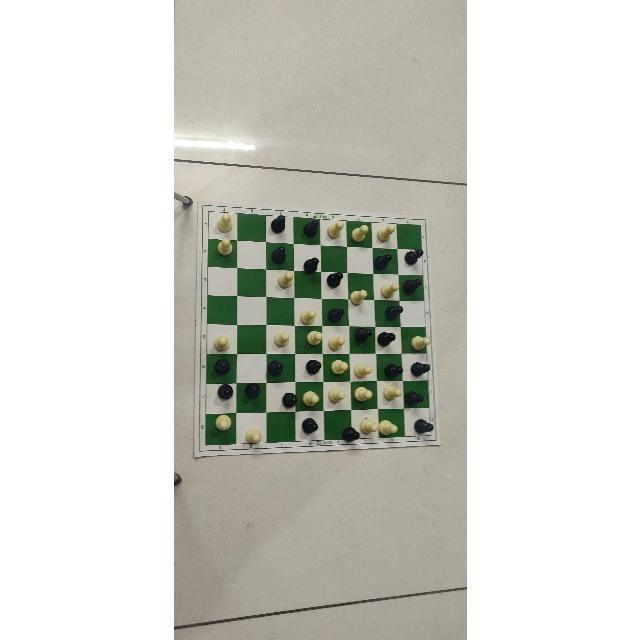black-pawn: (372, 253, 391, 271), (403, 249, 423, 265), (403, 392, 424, 407), (325, 271, 343, 288), (402, 278, 421, 294), (413, 418, 433, 433), (383, 363, 403, 378), (302, 219, 318, 237), (341, 426, 359, 442), (376, 332, 395, 347), (409, 362, 429, 376), (302, 257, 318, 274), (326, 308, 343, 324), (301, 417, 317, 434), (244, 381, 260, 398), (281, 391, 297, 408), (271, 216, 286, 234), (271, 246, 286, 264), (384, 305, 402, 320), (353, 327, 371, 342), (216, 384, 232, 400), (305, 359, 321, 375), (264, 360, 281, 375), (215, 359, 231, 374)
white-pawn: (349, 224, 368, 243), (326, 220, 344, 239), (376, 225, 394, 243), (379, 283, 399, 299), (409, 335, 430, 350), (213, 414, 231, 431), (244, 426, 261, 444), (327, 386, 345, 403), (216, 212, 232, 231), (377, 419, 397, 434), (354, 386, 372, 402), (305, 330, 323, 346), (300, 391, 318, 407), (359, 418, 377, 434), (330, 359, 348, 375), (216, 237, 231, 256), (277, 271, 293, 288), (349, 290, 366, 306), (327, 335, 344, 351), (383, 385, 401, 400), (353, 362, 371, 377), (213, 335, 229, 351), (273, 332, 289, 347), (299, 309, 315, 324)
